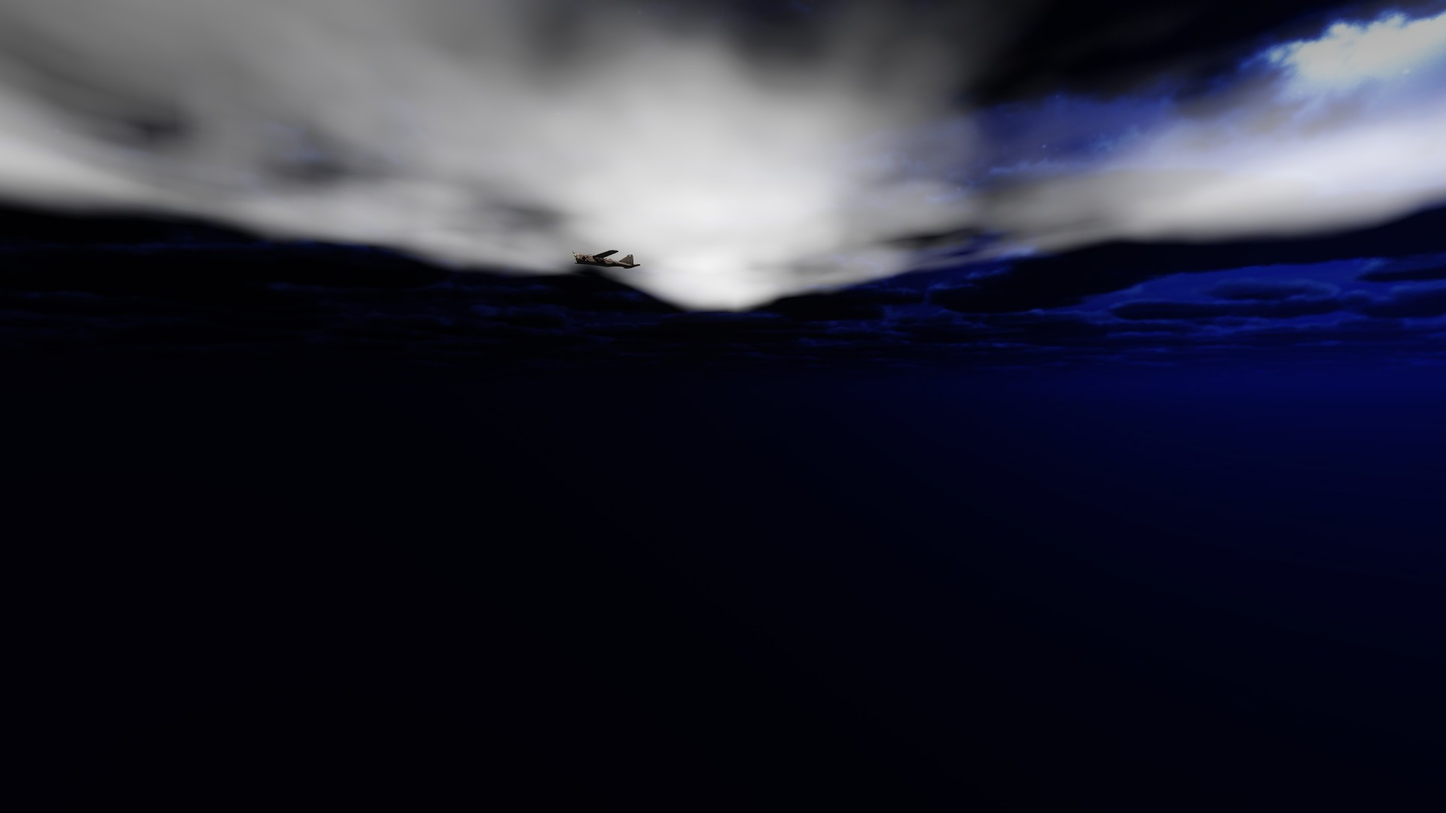drone_other: (573, 250, 641, 269)
